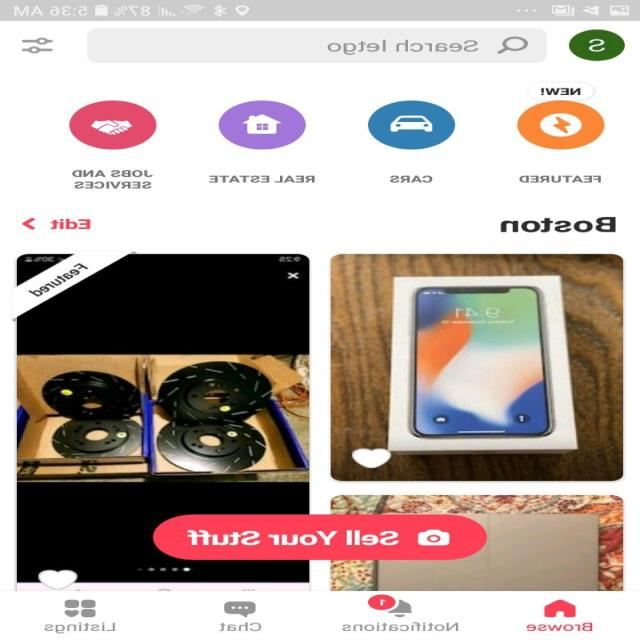EditText: (87, 28, 547, 63)
Icon: (218, 100, 306, 150), (368, 593, 413, 617), (352, 448, 393, 468), (39, 569, 79, 589), (544, 598, 577, 617), (224, 600, 257, 618), (65, 599, 98, 617), (497, 36, 529, 54), (22, 38, 54, 53), (22, 218, 36, 230)
Image: (17, 254, 310, 591), (330, 253, 624, 481), (331, 494, 624, 590), (518, 100, 606, 150), (368, 100, 456, 150), (70, 100, 158, 150), (569, 29, 625, 61)
Text: (327, 39, 479, 55), (500, 217, 617, 232), (72, 169, 154, 189), (342, 621, 460, 631), (45, 621, 116, 634), (208, 175, 316, 183), (526, 621, 594, 631), (519, 175, 602, 183), (50, 218, 91, 230), (220, 621, 263, 631), (390, 175, 434, 183)
TextButton: (153, 514, 488, 560), (527, 82, 594, 101)
